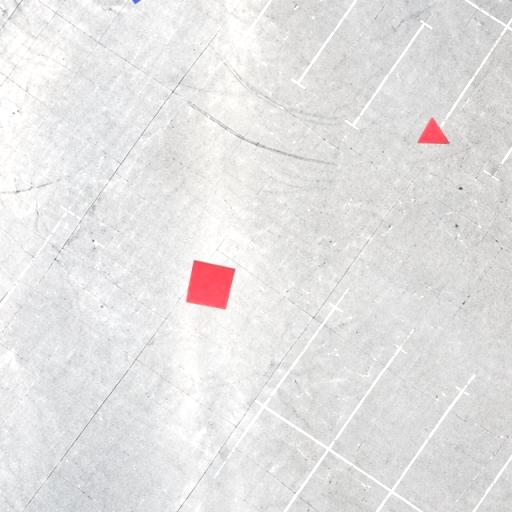RED_SQUARE: (186, 260, 236, 310)
